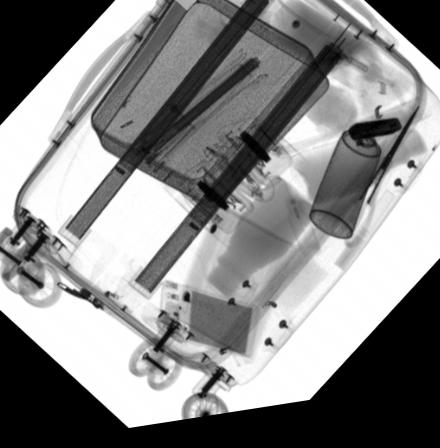Lighter: (345, 130, 401, 151)
Powerbank: (156, 284, 257, 369)
Scissors: (321, 116, 420, 260)
Sprayer: (307, 120, 389, 249)
